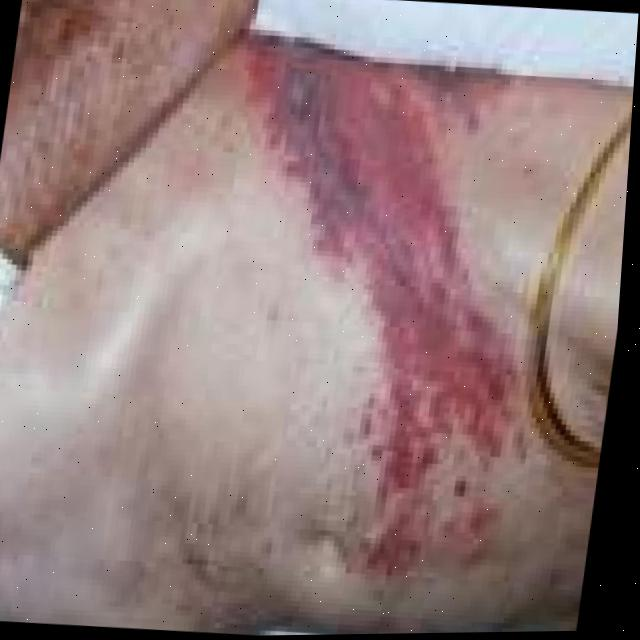Shingles: (181, 60, 514, 543)
